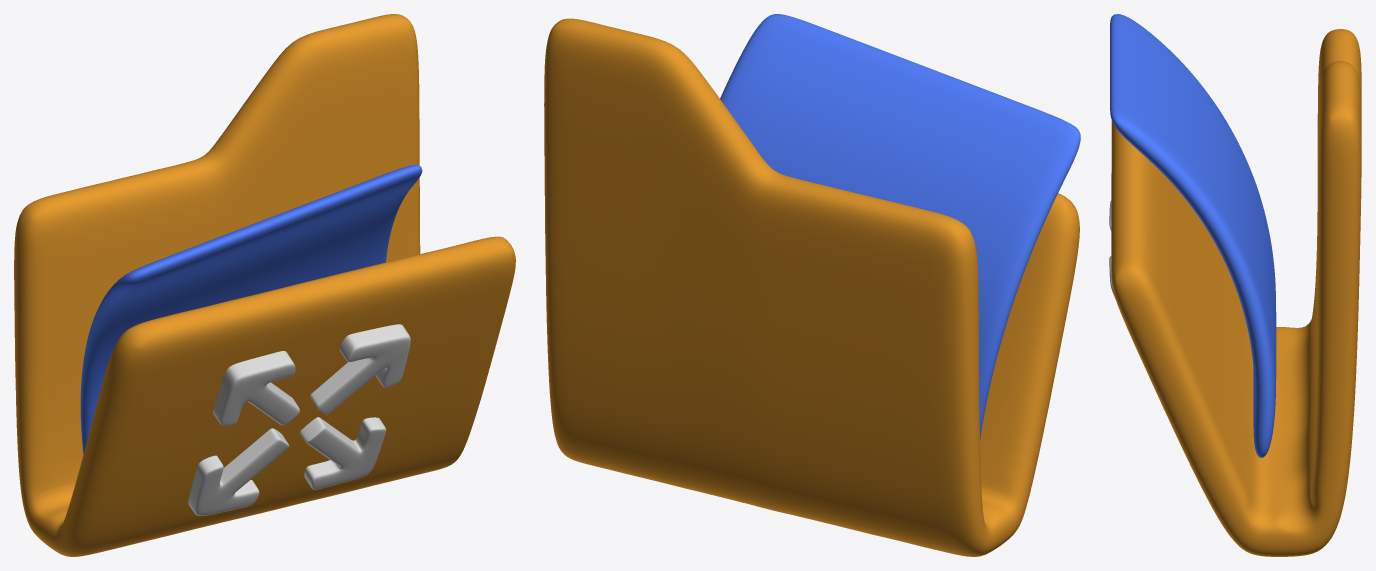
File: move-folder-animated-3d-icon-1606109546831.glb
The picture shows the model from 3 angles, left to right: view 1: azimuth 30°, elevation 25°; view 2: azimuth 150°, elevation 25°; view 3: azimuth 270°, elevation 25°; orthographic projection. The views are drawn at different scales.
Parts seen in each view (by area): view 1: Folder.003, File 1.003, Move Icon; view 2: Folder.003, File 1.003; view 3: Folder.003, File 1.003.
Boxes of the visible parts, x1,y1,x2,y2 form: Folder.003: [14, 14, 515, 556]; File 1.003: [80, 165, 422, 454]; Move Icon: [188, 324, 410, 515]; Folder.003: [544, 18, 1079, 556]; File 1.003: [720, 14, 1080, 439]; Folder.003: [1111, 29, 1361, 556]; File 1.003: [1110, 14, 1276, 457].
Size of the model in its own units: 1.89 by 1.93 by 0.988.
